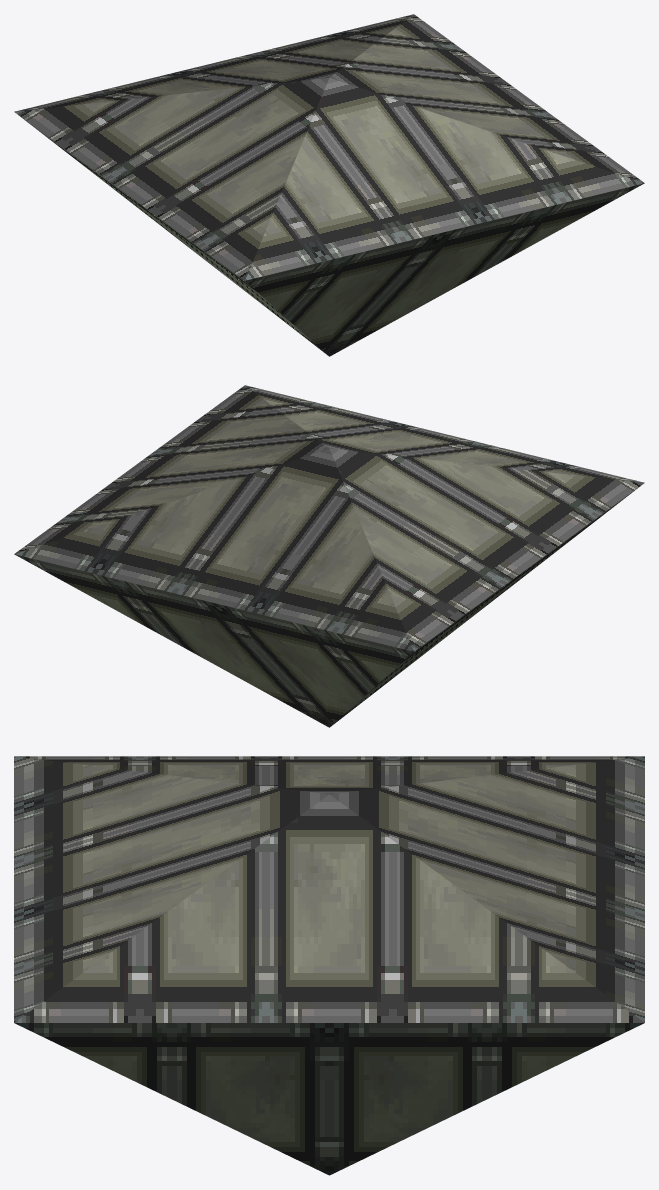
The model's file is km1_ukishima.glb.
3 views of the same model, one above another, from view 1: azimuth 30°, elevation 25°; view 2: azimuth 150°, elevation 25°; view 3: azimuth 270°, elevation 25° (orthographic). The views are drawn at different scales.
Parts seen in each view (by area): view 1: km1_ukishima; view 2: km1_ukishima; view 3: km1_ukishima.
Boxes of the visible parts, x1,y1,x2,y2 form: km1_ukishima: [14, 14, 644, 356]; km1_ukishima: [14, 385, 644, 727]; km1_ukishima: [14, 756, 644, 1175].
Bounding box in the file's own units: 75 × 50 × 75.
Materials: 1 (1 with a texture image).
